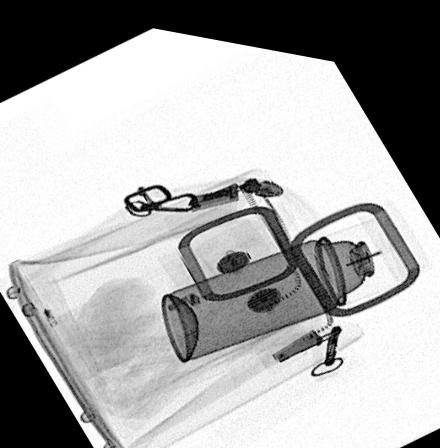Sprayer: (159, 200, 410, 358)
